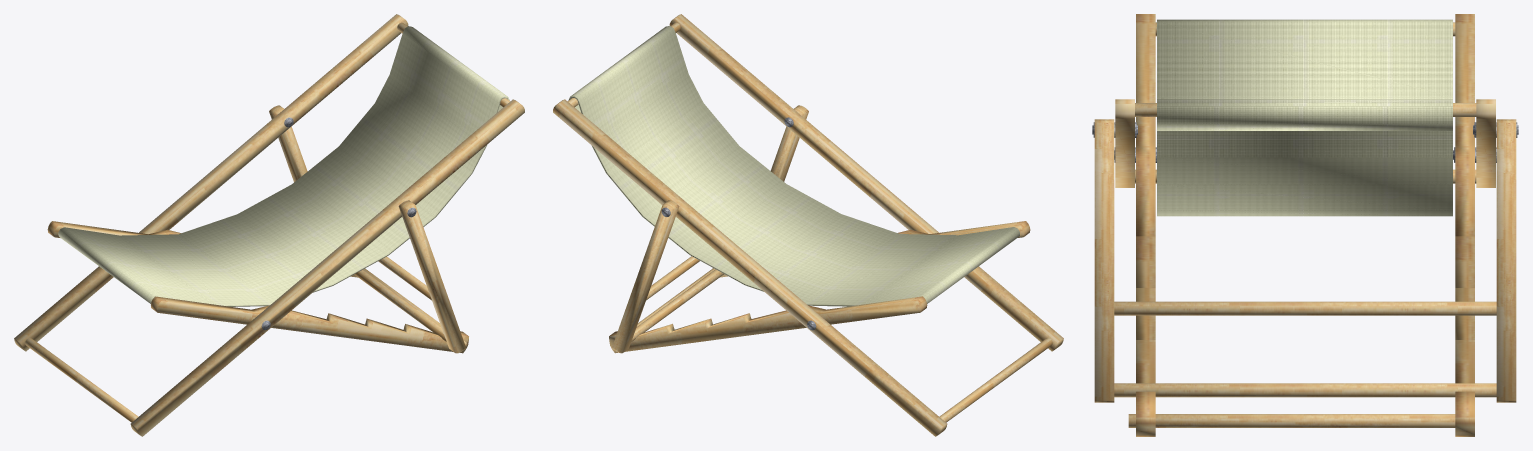
The model's file is CanvasDeckChair.fbx.
3 views of the same model, side by side, from view 1: azimuth 30°, elevation 25°; view 2: azimuth 150°, elevation 25°; view 3: azimuth 270°, elevation 25° (orthographic). The views are drawn at different scales.
Visible parts, largest first — view 1: default; view 2: default; view 3: default.
Boxes of the visible parts, x1=… form: default: x1=14, y1=14, x2=524, y2=436; default: x1=553, y1=14, x2=1063, y2=436; default: x1=1092, y1=14, x2=1518, y2=436.
Bounding box in the file's own units: 10.54 × 6.29 × 6.48.
